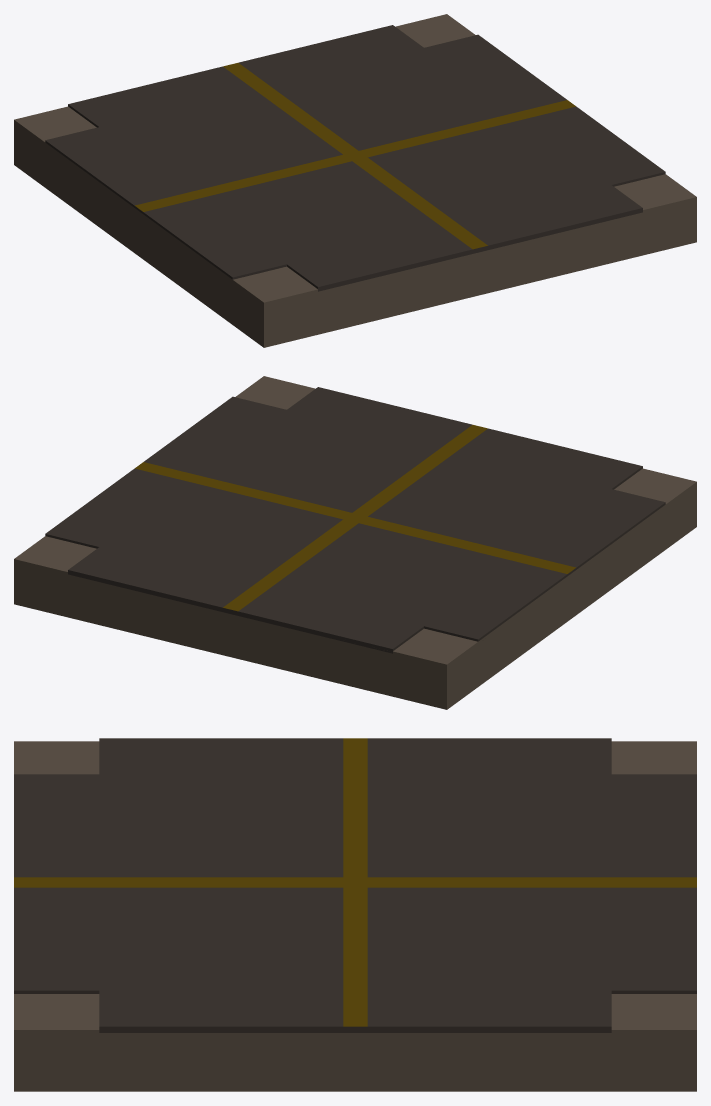
File: road-intersection.glb
3 renders of one model, top to bottom at view 1: azimuth 30°, elevation 25°; view 2: azimuth 150°, elevation 25°; view 3: azimuth 270°, elevation 25°, orthographic. The views are drawn at different scales.
Parts seen in each view (by area): view 1: road-intersection; view 2: road-intersection; view 3: road-intersection.
Part boxes in pixels (x1,y1,x2,y2): road-intersection: [14, 14, 696, 347]; road-intersection: [14, 376, 696, 709]; road-intersection: [14, 738, 696, 1091].
Size of the model in its own units: 1 by 0.105 by 1.
